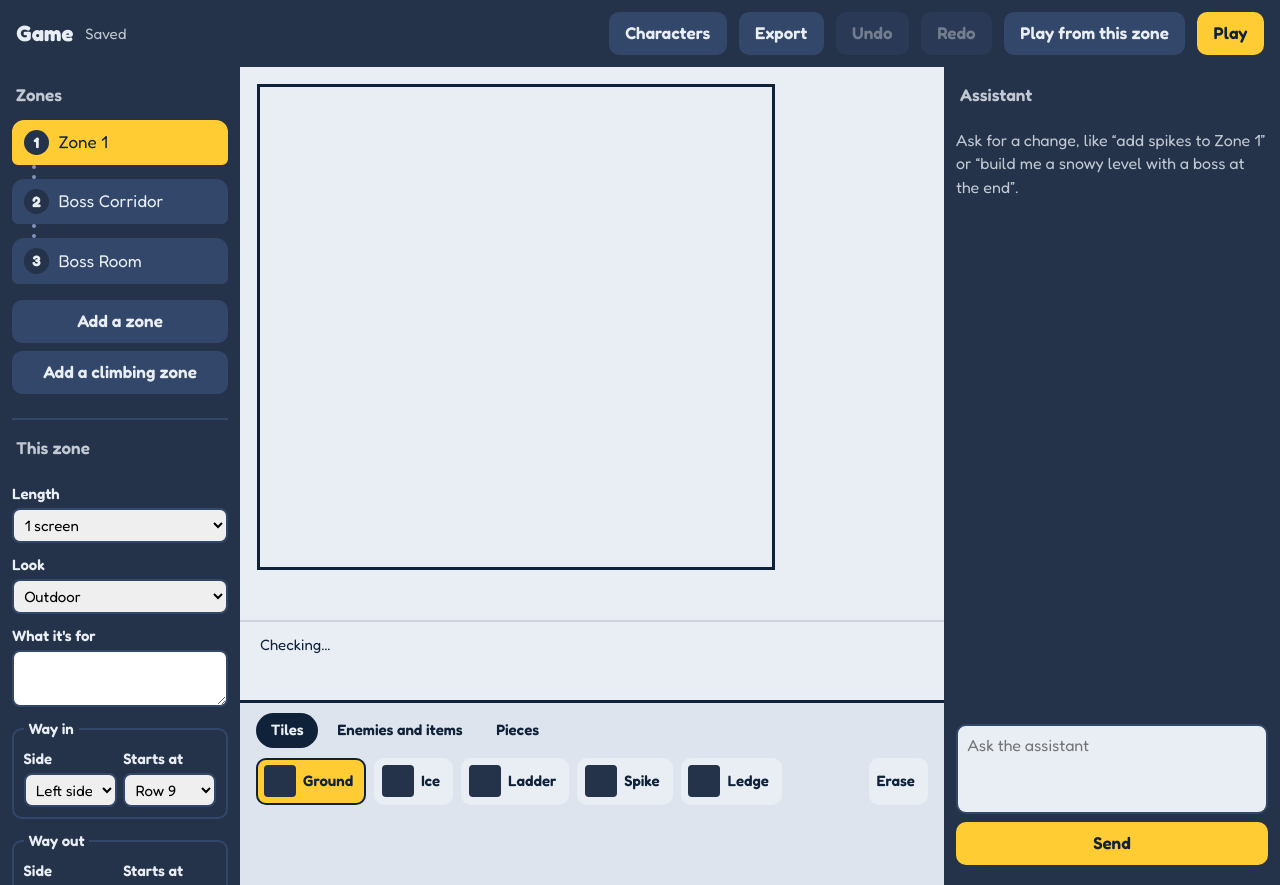
it: Editor › keeps working and says so when saving fails
What coordinates should you click on to do the following:
click the button "Add a zone"
I would click on:
 (120, 321)
Its box is [12,300,228,343].
Wait 600 ms
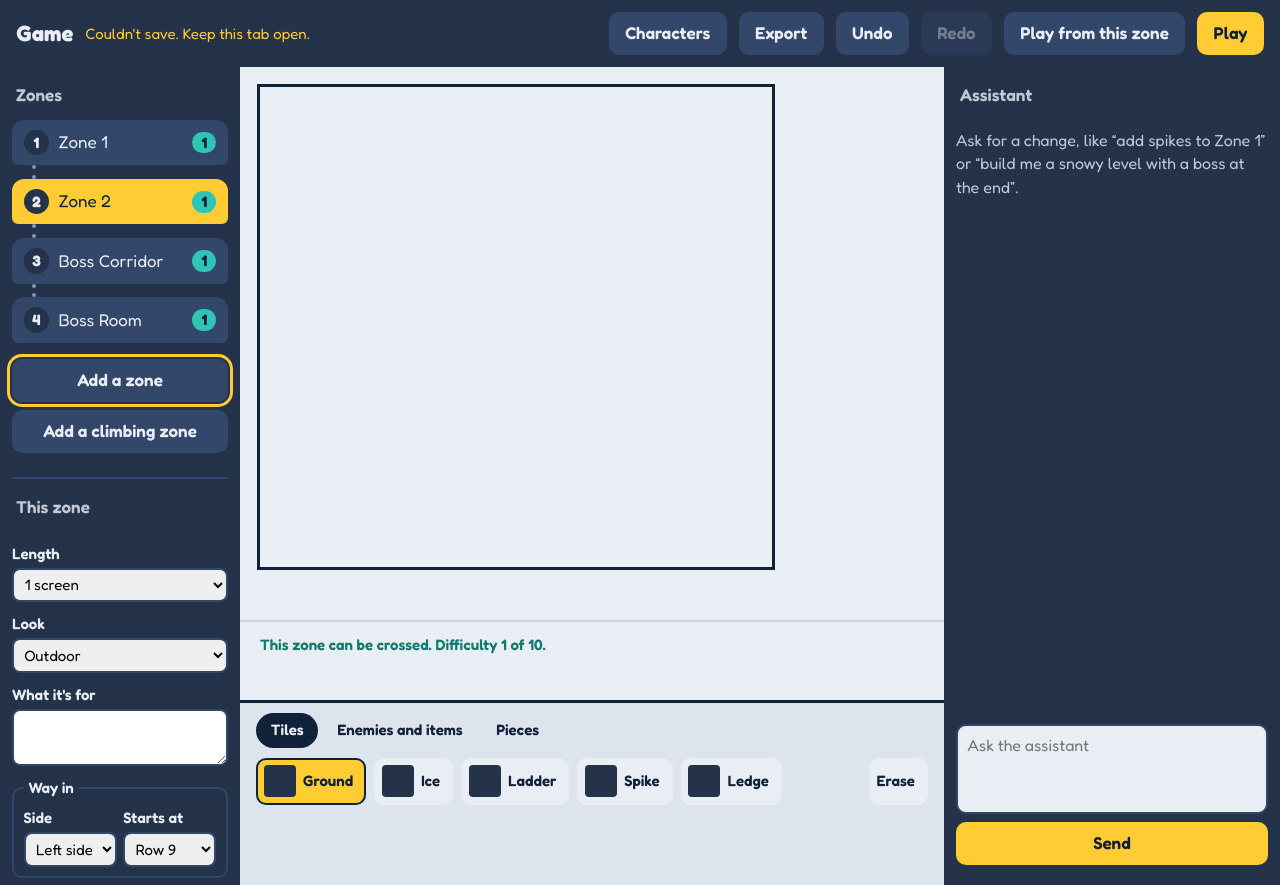
Now the text "Couldn't save. Keep this tab open." is shown, box [85,23,310,44]
What coordinates should you click on to do the following:
click the button "Add a zone"
I would click on:
 (120, 380)
Its box is [12,359,228,402].
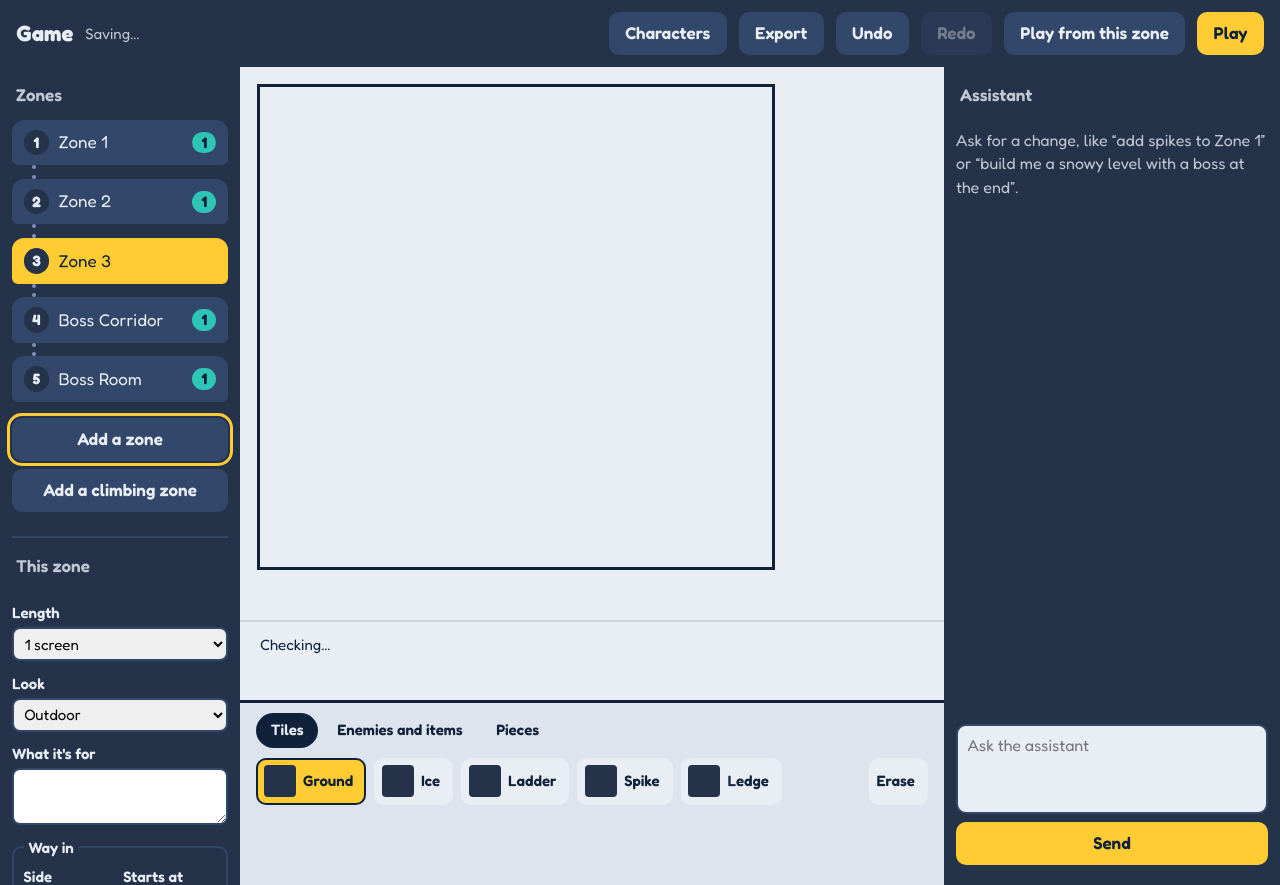
Now the button "3 Zone 3" is shown, box [12,238,228,284]
